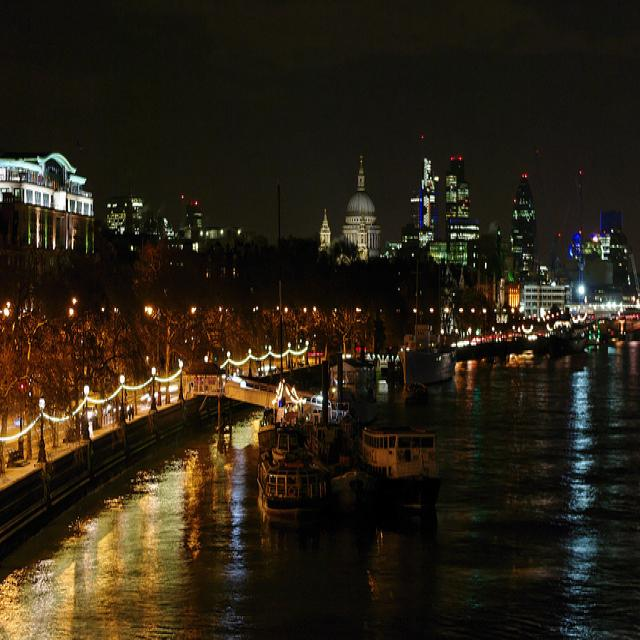Boat: (235, 394, 378, 543), (354, 413, 479, 531), (393, 318, 476, 401), (506, 326, 583, 386)
